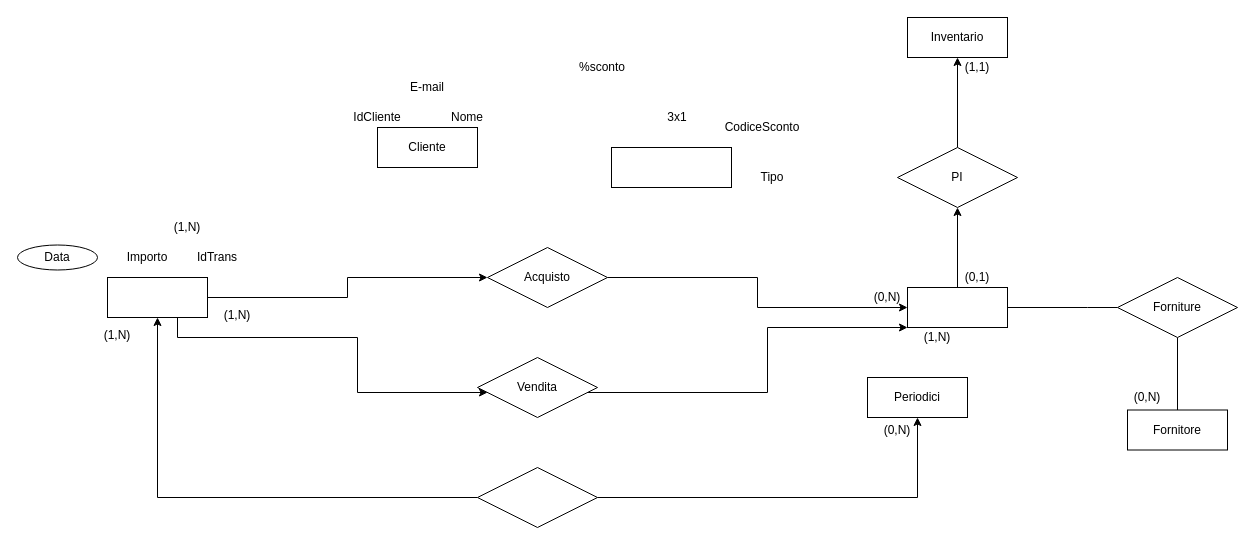
Image size: 1255x545. Some labels were removed from this diagram. The centre of each missing label's shape, as x and y in pixels:
"Prodotto" goes at point 957,307.
"Rimborso" goes at point 537,497.
"ScontoEPromozioni" goes at point 671,167.
"Transazione" goes at point 157,297.
